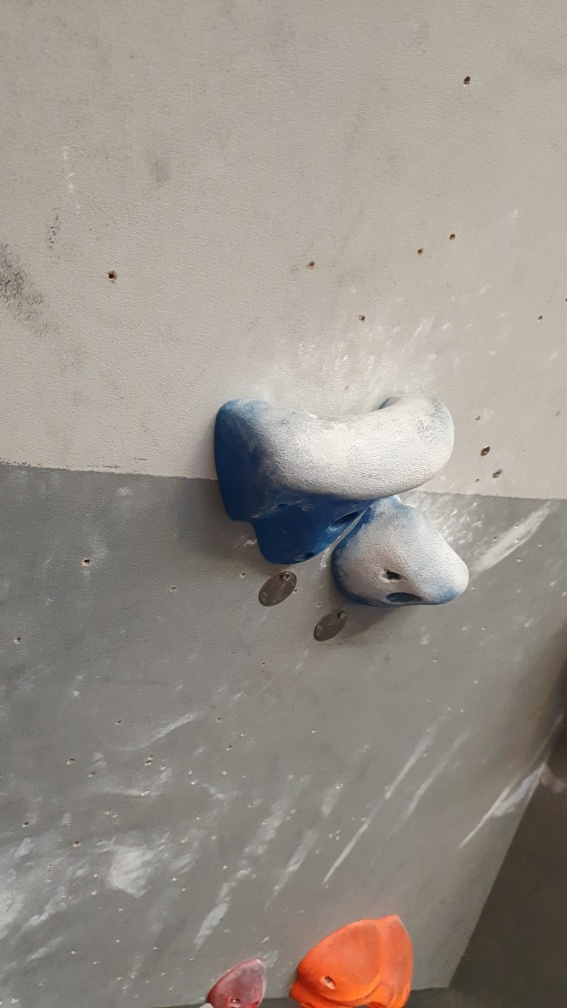Hand Start: (310, 603, 351, 648), (250, 569, 301, 605)
Jug: (205, 378, 462, 569), (329, 491, 477, 618)
